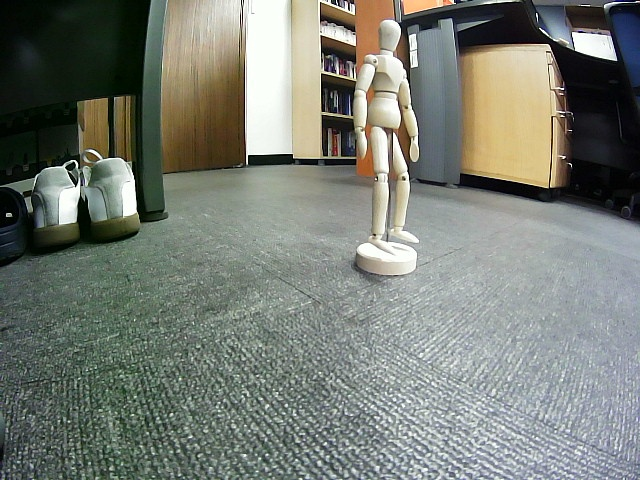person: (352, 20, 421, 256)
